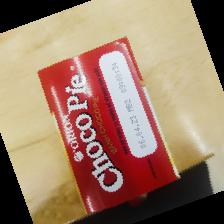Chocopie: (38, 37, 181, 223)
